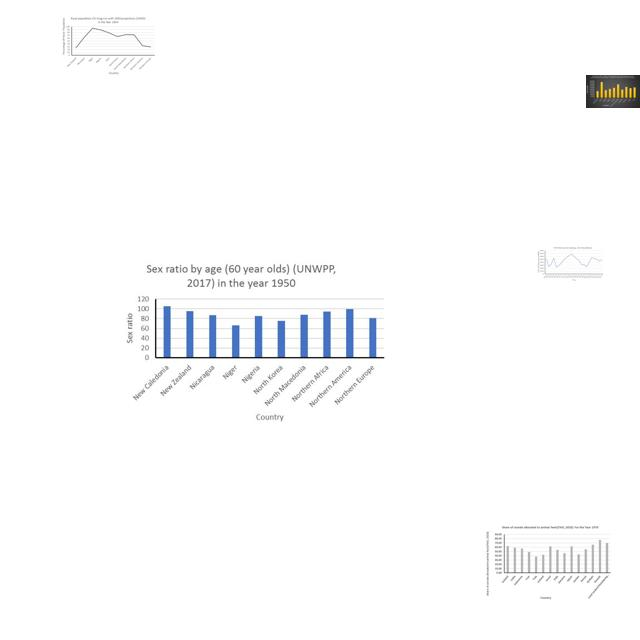Graph: (117, 257, 391, 425), (483, 524, 617, 603), (60, 15, 156, 76), (536, 246, 604, 281), (586, 75, 640, 108)
